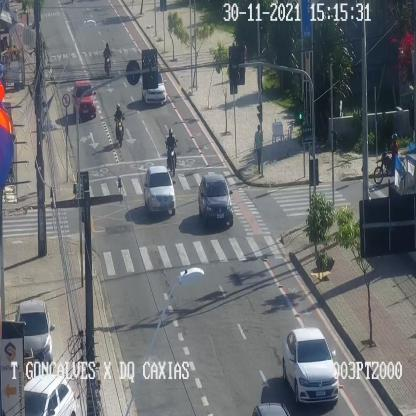car: (282, 328, 338, 401), (16, 300, 52, 372), (23, 374, 76, 415), (198, 174, 233, 225), (144, 165, 175, 213), (141, 69, 166, 104), (72, 80, 96, 116)
motorbike: (373, 133, 404, 184), (166, 128, 177, 174), (114, 102, 125, 146), (104, 43, 112, 76)
person: (254, 124, 263, 174), (257, 59, 263, 92), (242, 40, 247, 73)
